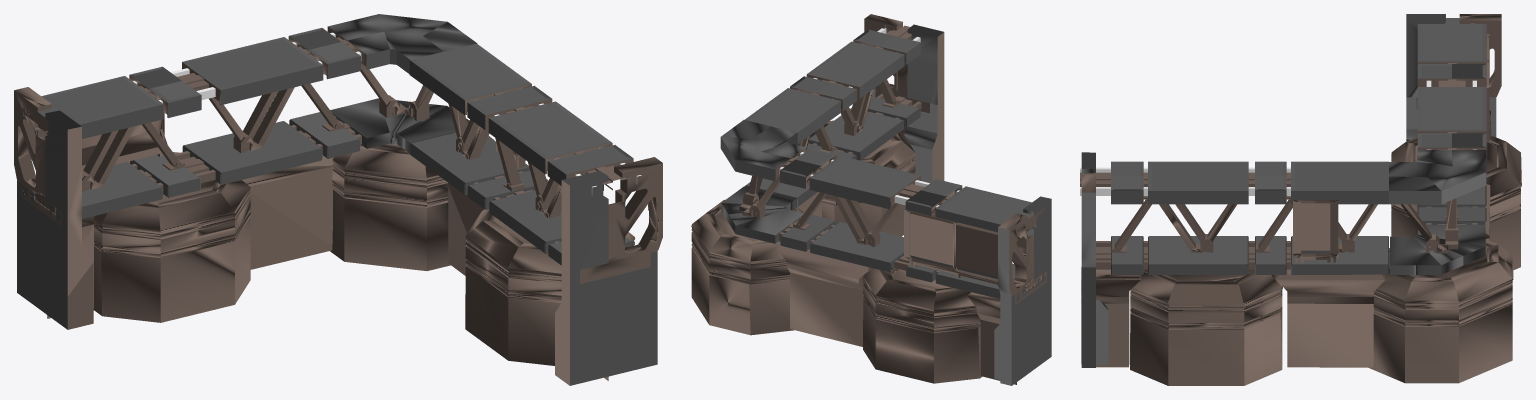
The model's file is lorville_city_plating_wall_cornerout_c_b.glb.
3 views of the same model, side by side, from view 1: azimuth 30°, elevation 25°; view 2: azimuth 150°, elevation 25°; view 3: azimuth 270°, elevation 25° (orthographic). The views are drawn at different scales.
Bounding box in the file's own units: 228 × 104 × 227.
